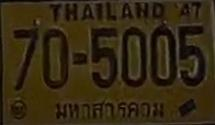0: (150, 26, 176, 85), (43, 28, 68, 88), (121, 27, 146, 86)
5: (90, 27, 118, 87), (178, 25, 205, 86)
7: (13, 28, 38, 90)
MKM: (50, 94, 167, 122)
